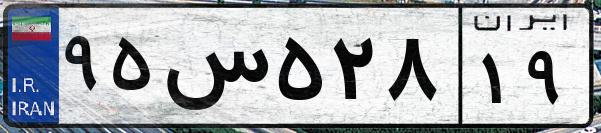1: (475, 38, 525, 113)
2: (330, 28, 385, 110)
5: (270, 28, 330, 110), (110, 28, 158, 98)
8: (385, 28, 445, 110)
9: (57, 26, 110, 100), (525, 38, 570, 115)
س: (158, 20, 270, 120)
